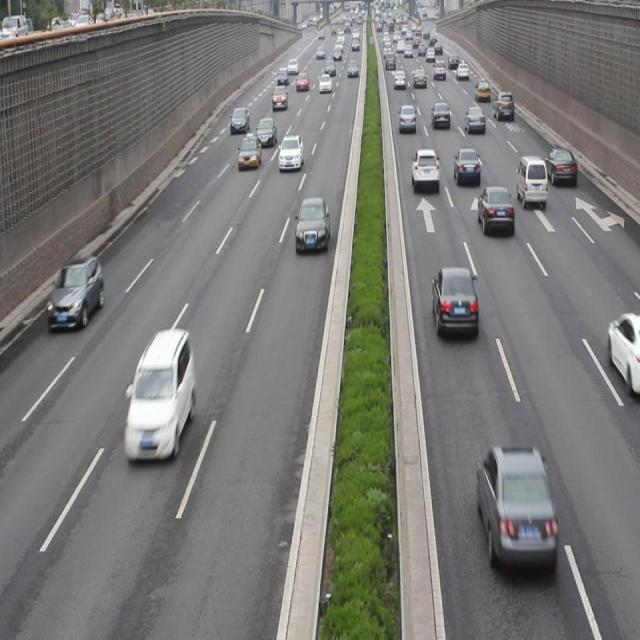car: (475, 442, 555, 570), (124, 328, 195, 461), (47, 252, 104, 330), (430, 265, 477, 338), (607, 312, 640, 394), (294, 196, 329, 254), (476, 184, 513, 236), (544, 145, 577, 187), (409, 146, 439, 192), (453, 147, 480, 187), (278, 134, 302, 172), (238, 133, 260, 168), (464, 104, 487, 132), (256, 115, 276, 145), (230, 105, 249, 134), (432, 100, 449, 132), (398, 102, 415, 133)
truck: (515, 153, 546, 207)
